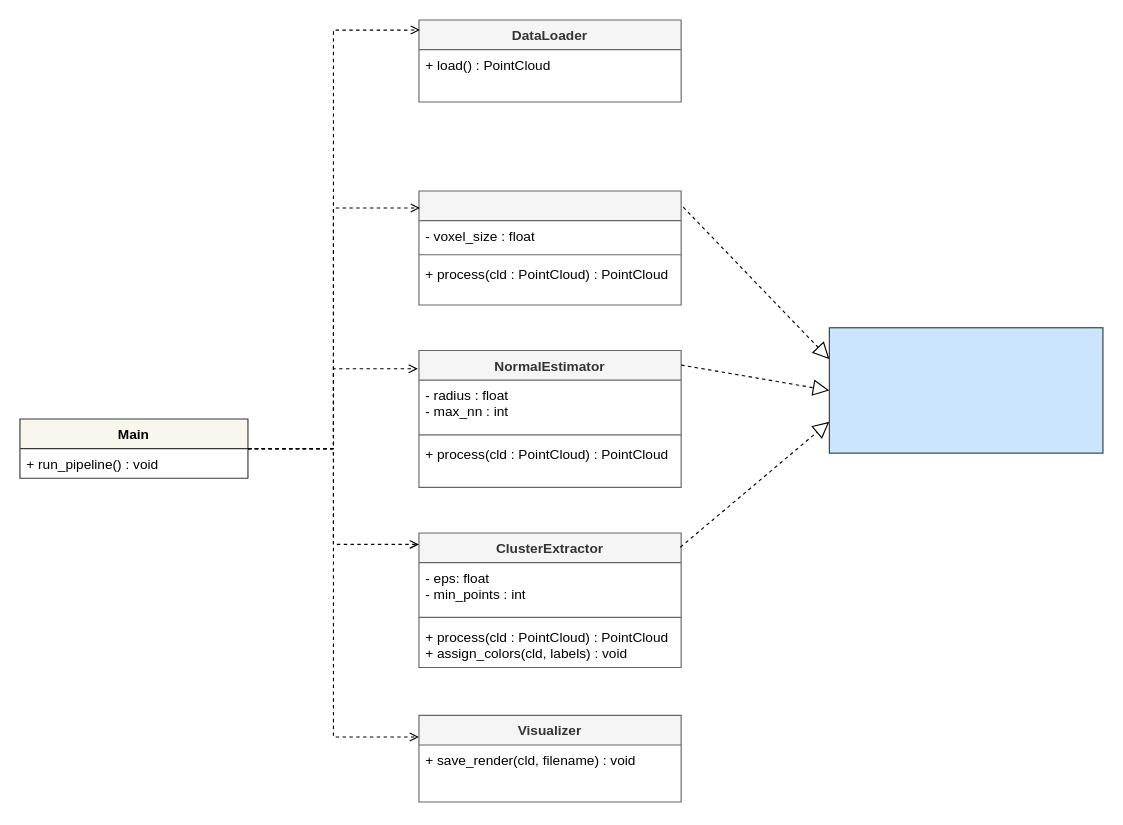
This 1123x825 diagram has some shape labels left out. Here are the shapes that lost their labels. From the top down, the box of each, then its label:
(418, 190, 681, 305): Downsampler
(828, 327, 1103, 453): <<Interface>> PointCloudProcessor + process(cld : PointCloud) : PointCloud
